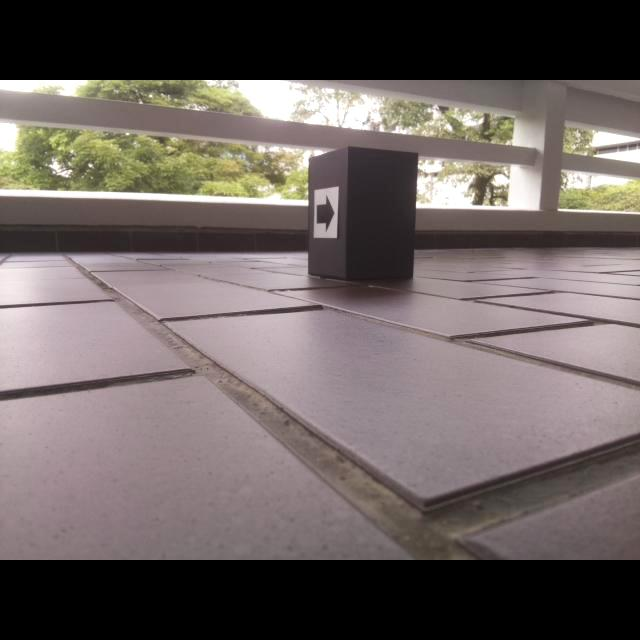RIGHT: (316, 193, 336, 234)
